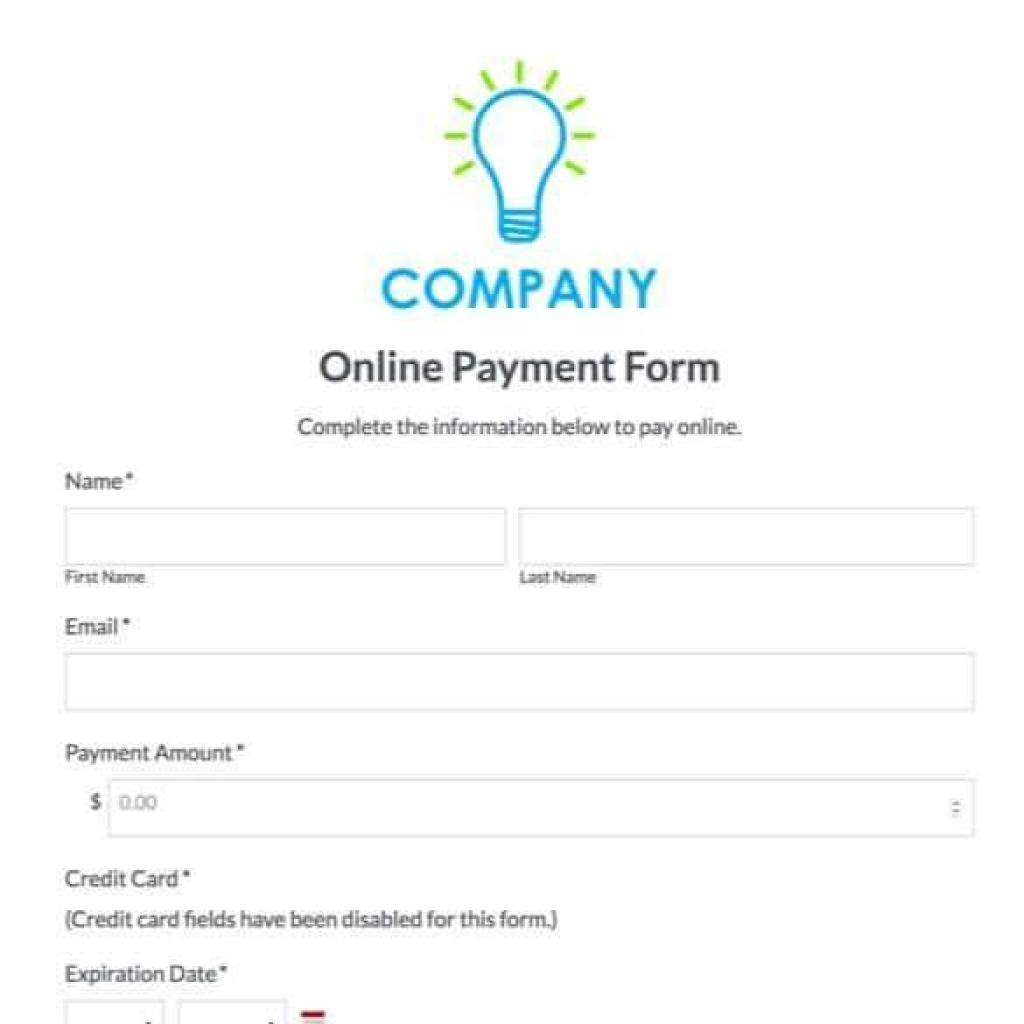dropdown: (112, 779, 979, 838)
input: (65, 653, 975, 712), (64, 508, 508, 567), (522, 508, 973, 566)
label: (312, 345, 726, 385), (60, 738, 252, 768), (60, 958, 231, 988), (61, 866, 198, 891), (54, 464, 140, 494), (56, 611, 138, 637)
